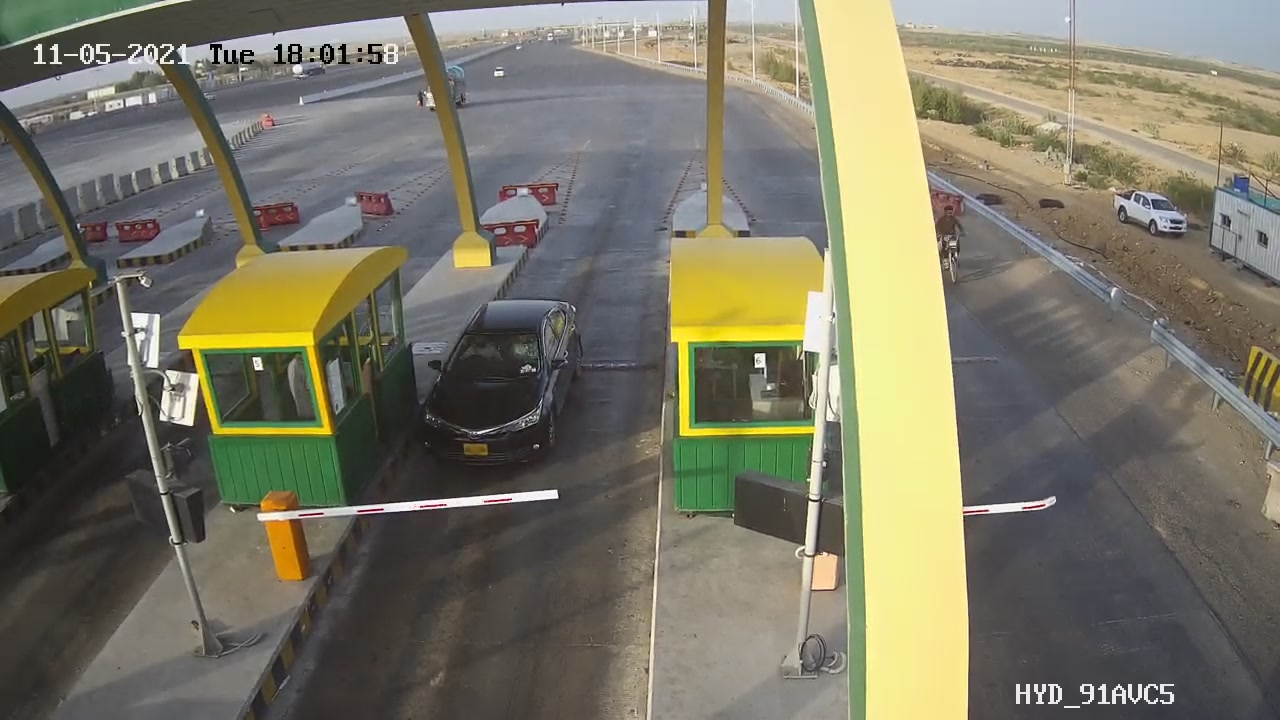F1: (407, 285, 595, 482)
